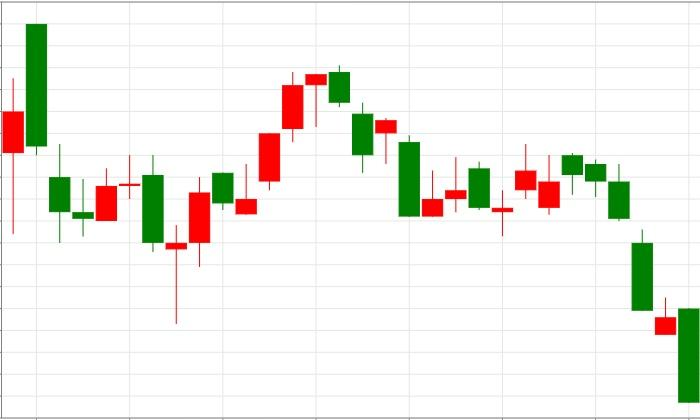morning_star_rise: (26, 23, 211, 324)
